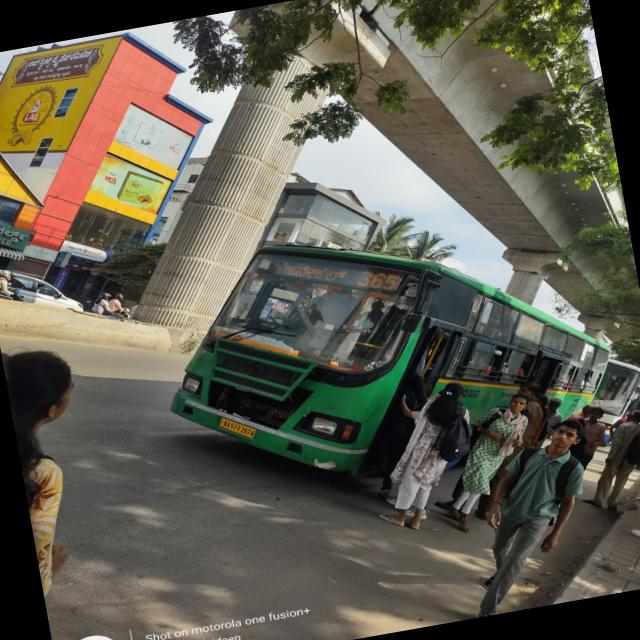bus: (138, 158, 639, 533)
display: (255, 228, 410, 316)
dnumber: (352, 262, 402, 300)
